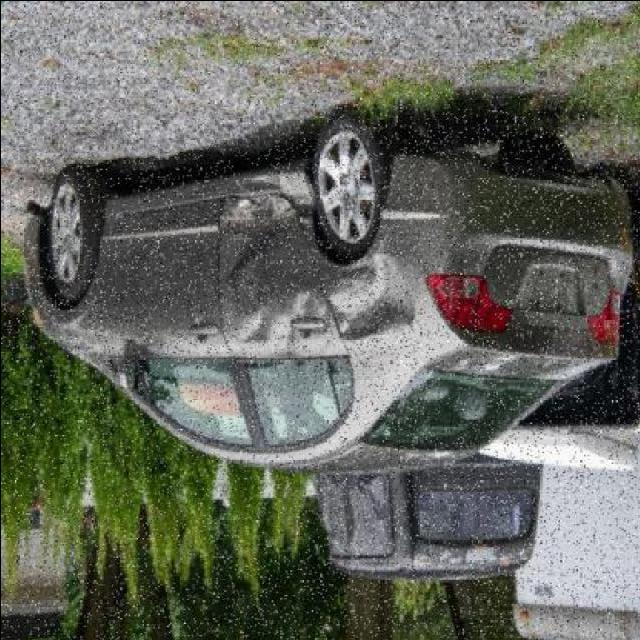doorouter-dent: (218, 187, 334, 357)
quaterpanel-dent: (334, 208, 437, 357)
